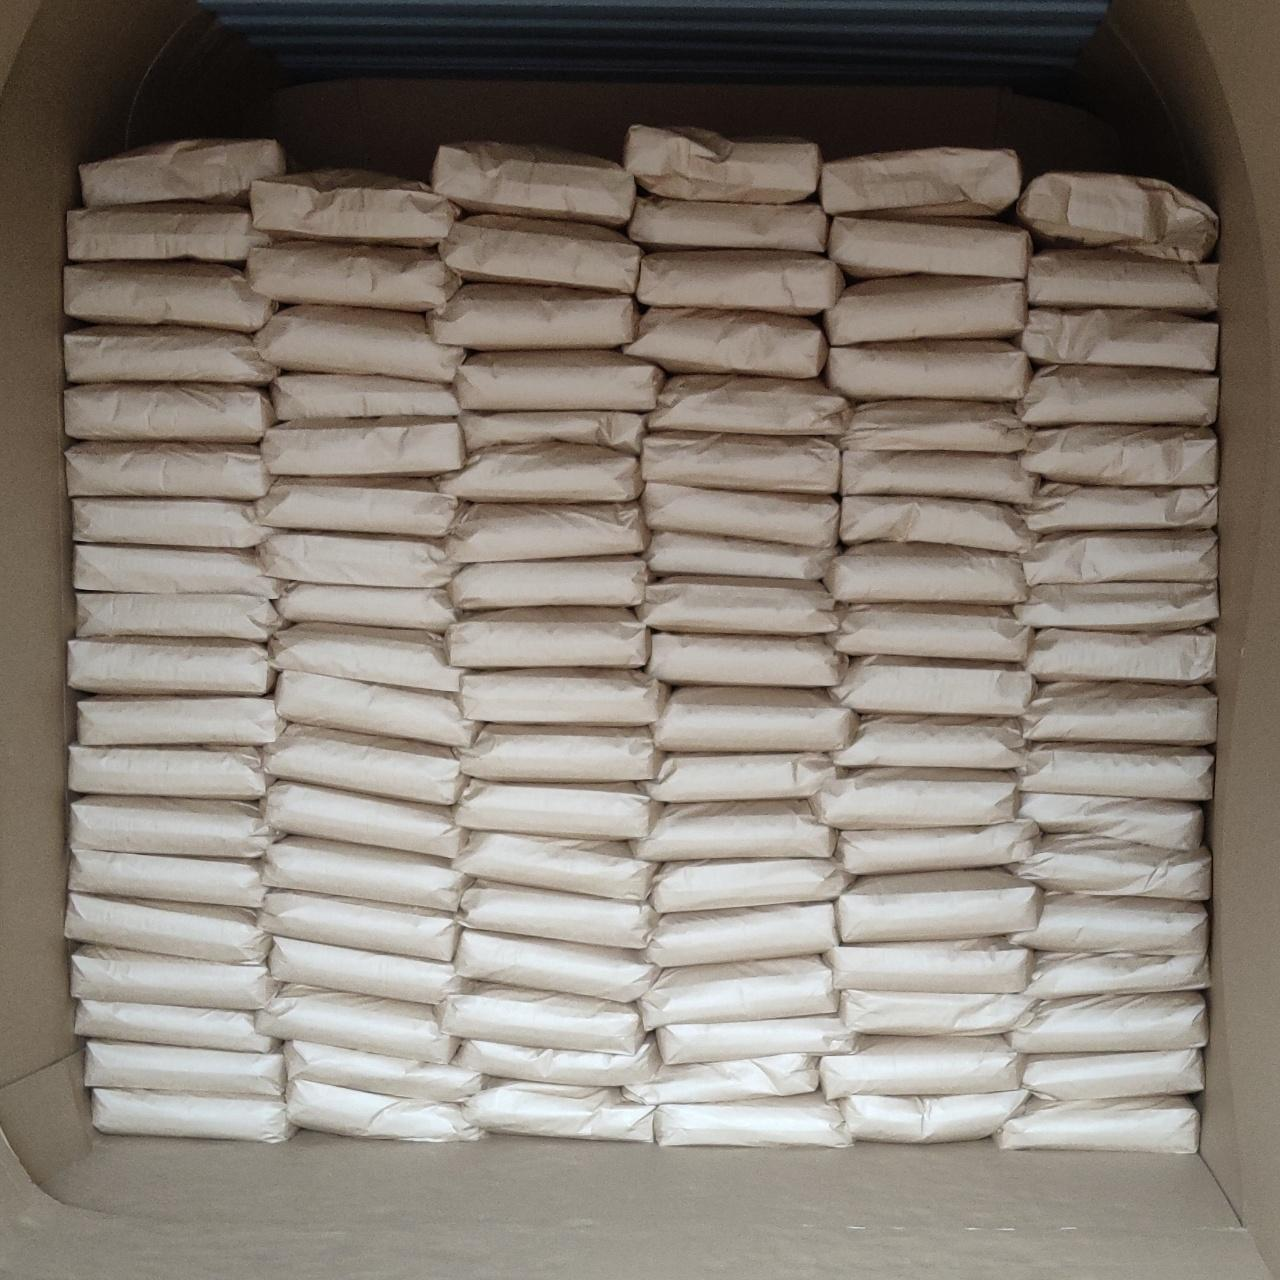sack: (1017, 173, 1217, 262), (432, 142, 635, 228), (265, 724, 467, 805), (254, 305, 463, 382), (276, 671, 481, 749), (440, 215, 642, 294), (252, 171, 458, 246), (257, 986, 457, 1063), (247, 241, 460, 312), (836, 868, 1043, 941), (624, 125, 820, 202), (262, 837, 464, 911), (65, 261, 272, 333), (455, 929, 658, 1002), (638, 956, 837, 1029), (441, 982, 644, 1053), (624, 307, 827, 378), (265, 783, 458, 857), (65, 892, 267, 961), (81, 139, 285, 207), (427, 283, 637, 349), (821, 147, 1021, 216), (455, 832, 655, 900), (825, 277, 1025, 345), (260, 891, 456, 960), (652, 687, 857, 751), (636, 251, 843, 314), (71, 946, 276, 1009), (269, 939, 464, 1005), (272, 624, 461, 692), (642, 482, 839, 547), (457, 350, 663, 412), (812, 767, 1018, 829), (1026, 247, 1216, 314), (829, 216, 1030, 279), (70, 797, 275, 858), (645, 903, 837, 968), (65, 326, 275, 385), (1016, 836, 1209, 900), (461, 885, 657, 948), (65, 383, 274, 442), (256, 477, 458, 538), (446, 607, 648, 668), (824, 543, 1026, 604), (1012, 894, 1207, 957), (827, 340, 1030, 400), (69, 846, 265, 908), (1011, 992, 1207, 1054), (647, 375, 849, 435), (821, 1037, 1019, 1098), (457, 779, 658, 839), (446, 502, 646, 562), (832, 656, 1032, 716), (439, 443, 642, 502), (1022, 365, 1218, 426), (1021, 309, 1217, 370), (1024, 682, 1216, 744), (66, 442, 270, 500), (642, 434, 839, 494), (637, 576, 837, 635), (631, 801, 834, 859), (284, 1041, 480, 1101), (68, 638, 274, 695), (68, 205, 270, 263), (288, 1080, 480, 1141), (994, 1096, 1198, 1153), (1020, 425, 1217, 484), (258, 531, 460, 588), (262, 417, 464, 474), (75, 545, 286, 599), (830, 605, 1033, 661), (85, 1040, 284, 1097), (460, 670, 666, 725), (461, 725, 663, 781), (463, 1083, 656, 1141), (826, 939, 1033, 992), (837, 820, 1040, 874), (1022, 530, 1217, 586), (75, 999, 276, 1053), (839, 496, 1032, 552), (1020, 744, 1213, 800), (69, 745, 265, 800), (651, 859, 849, 913), (92, 1089, 293, 1142), (1022, 628, 1215, 683), (628, 199, 827, 252), (451, 557, 646, 610), (77, 696, 283, 746), (654, 1095, 852, 1147), (1014, 580, 1218, 630), (839, 1089, 1030, 1142), (648, 634, 842, 686), (842, 450, 1034, 502), (72, 499, 275, 548), (1022, 483, 1216, 534), (1020, 792, 1199, 847), (841, 400, 1030, 452), (623, 1054, 819, 1104), (656, 1015, 856, 1064), (836, 717, 1024, 769), (455, 1040, 659, 1086), (1023, 1048, 1202, 1100), (77, 595, 282, 640), (649, 753, 836, 802), (643, 532, 835, 579), (278, 584, 454, 633), (272, 374, 458, 420), (1025, 952, 1208, 998), (841, 992, 1034, 1034), (458, 412, 644, 455)
